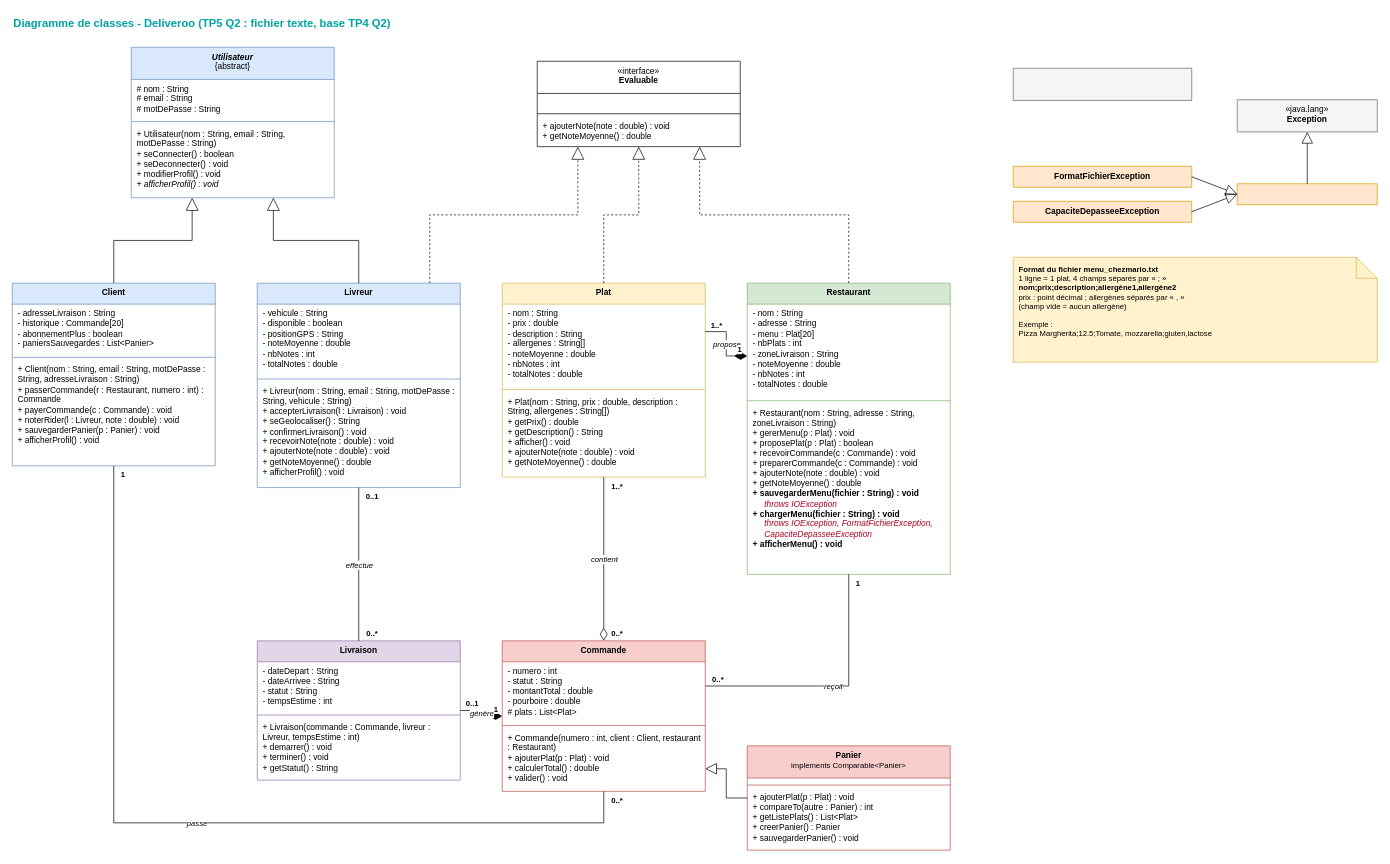
Some shapes in this 1390 by 864 pixel diagram are drawn without their labels. The shapes that lost their labels are listed below. From the top down, each one's centre as x and y in pixels, then its label:
At (x=1102, y=84): "«java.io» IOException".
At (x=1307, y=194): "FastBiteException".
